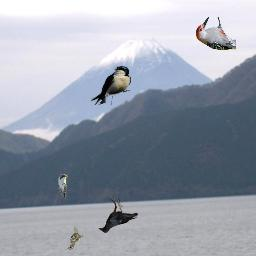Crow: (98, 198, 138, 233)
Cuckoo: (58, 174, 68, 197)
Sparrow: (67, 227, 84, 250)
Swallow: (91, 66, 131, 105)
Woodpecker: (196, 17, 236, 50)
